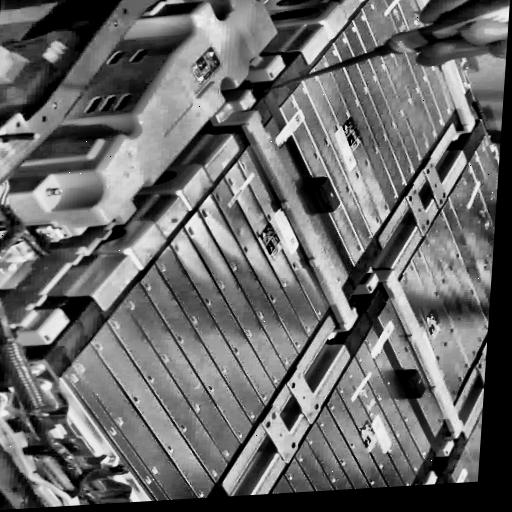battery_module: (61, 117, 348, 501), (280, 0, 468, 267), (380, 139, 498, 437)
busbar: (208, 87, 361, 340), (348, 259, 464, 460), (13, 198, 140, 346), (408, 0, 478, 142)
high_volt_cable: (0, 389, 83, 507)
low_volt_cable: (0, 274, 129, 505), (0, 185, 58, 271)
